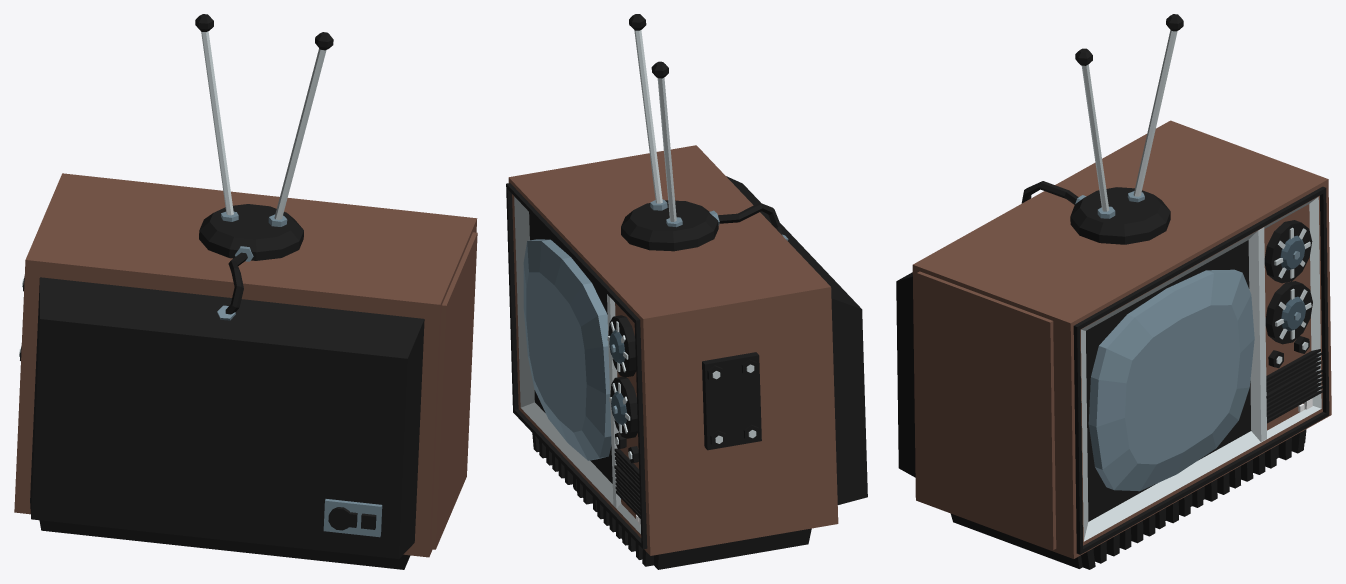
The model's file is FeaturedContent.glb.
3 renders of one model, left to right at view 1: azimuth 30°, elevation 25°; view 2: azimuth 150°, elevation 25°; view 3: azimuth 270°, elevation 25°, orthographic. The views are drawn at different scales.
Visible parts, largest first — view 1: group1078865745; view 2: group1078865745; view 3: group1078865745.
Boxes of the visible parts, x1,y1,x2,y2 form: group1078865745: [14, 14, 477, 569]; group1078865745: [506, 14, 867, 569]; group1078865745: [896, 14, 1331, 569].
Size of the model in its own units: 0.6722 by 0.759 by 0.6375.
